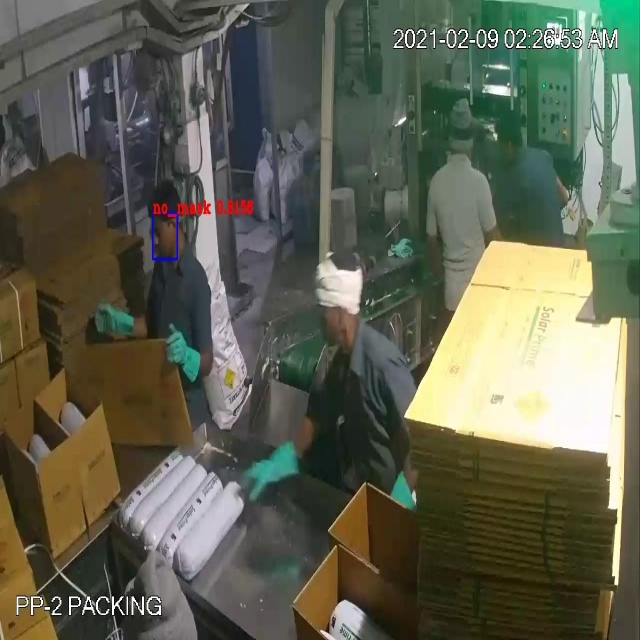Guantes: (240, 442, 303, 507), (93, 291, 145, 357), (164, 323, 203, 388)
